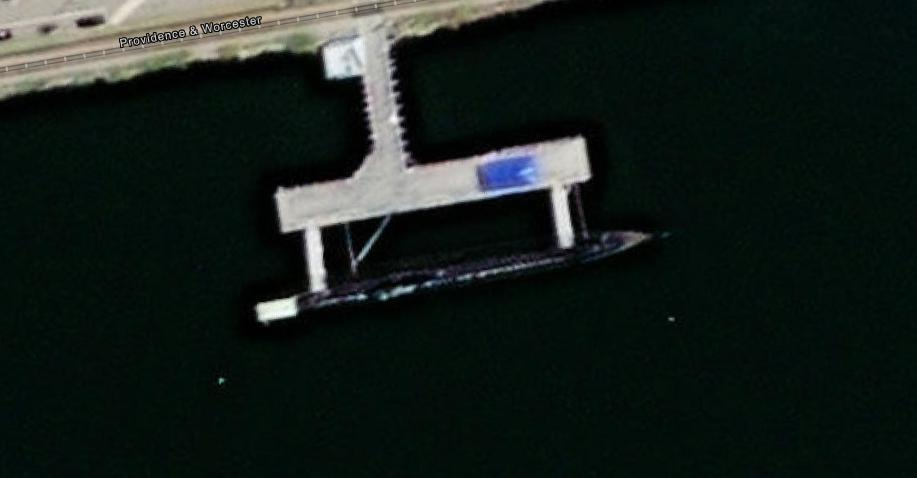submarine: (233, 224, 714, 324)
